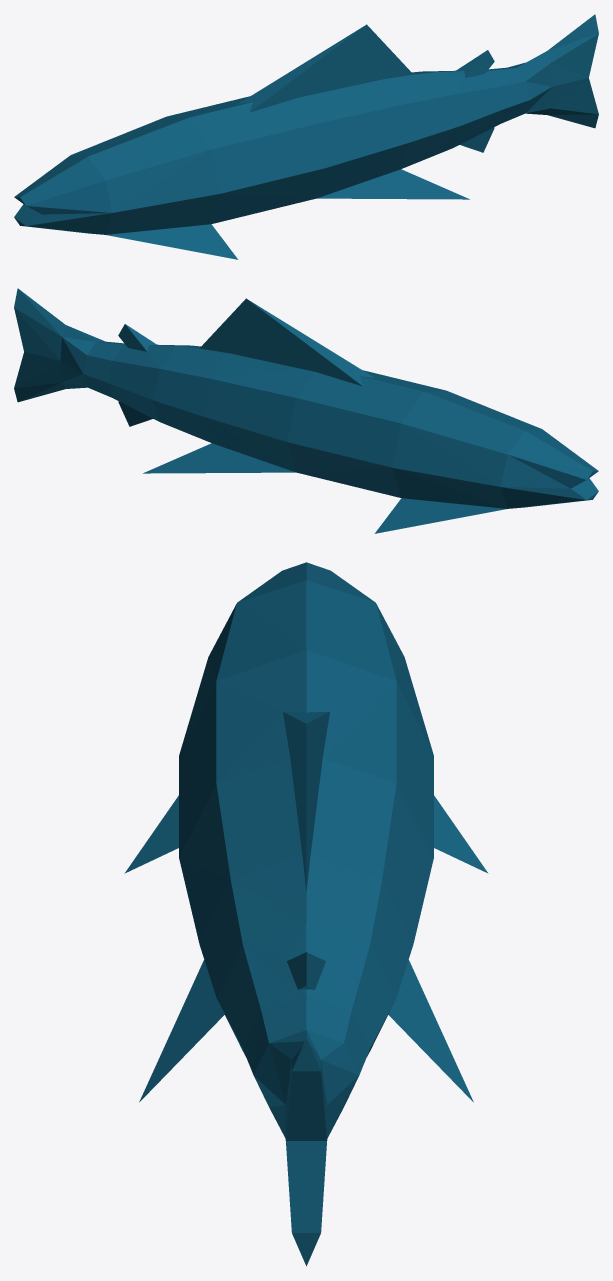
The model's file is fish-large-sky.glb.
3 views of the same model, one above another, from view 1: azimuth 30°, elevation 25°; view 2: azimuth 150°, elevation 25°; view 3: azimuth 270°, elevation 25° (orthographic). The views are drawn at different scales.
Visible parts, largest first — view 1: fish-large-sky; view 2: fish-large-sky; view 3: fish-large-sky.
Part boxes in pixels (x1,y1,x2,y2): fish-large-sky: [14, 14, 598, 259]; fish-large-sky: [14, 288, 598, 533]; fish-large-sky: [124, 562, 488, 1266].
Bounding box in the file's own units: 1.13 × 0.3 × 0.31.
